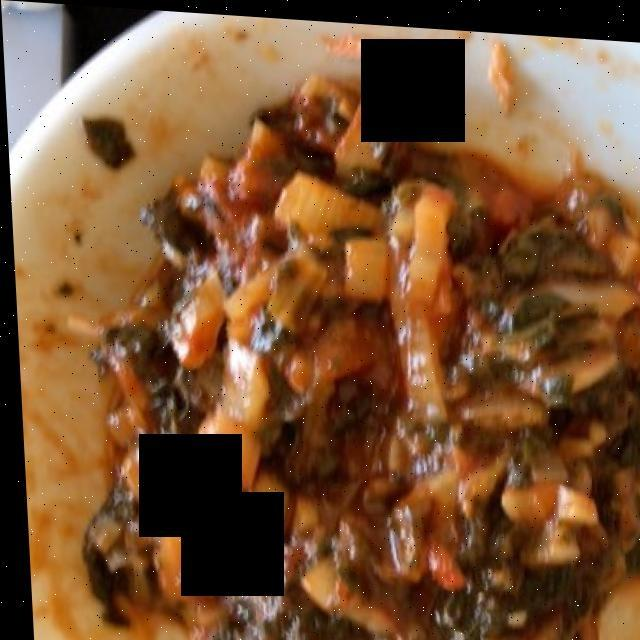cheese: (68, 61, 633, 640)
